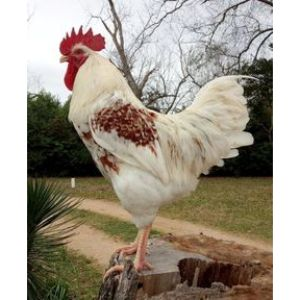hen: (54, 25, 259, 280)
